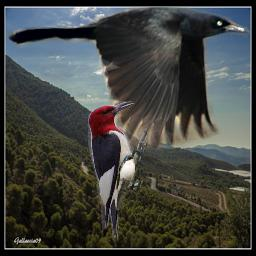Crow: (8, 4, 251, 150)
Swallow: (116, 154, 137, 190)
Woodpecker: (88, 101, 147, 241)
